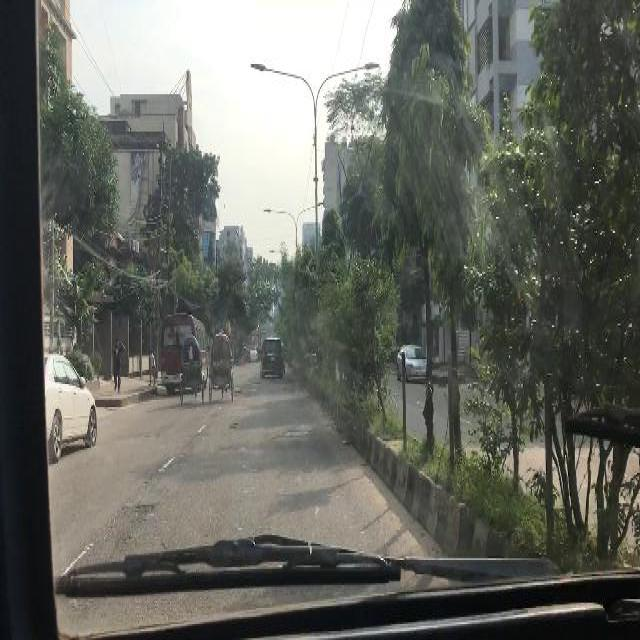car: (44, 351, 96, 460), (396, 343, 426, 382), (250, 348, 256, 363)
minibus: (160, 313, 206, 387)
minivan: (260, 335, 280, 380)
rickshaw: (176, 336, 204, 400), (208, 332, 234, 400)
